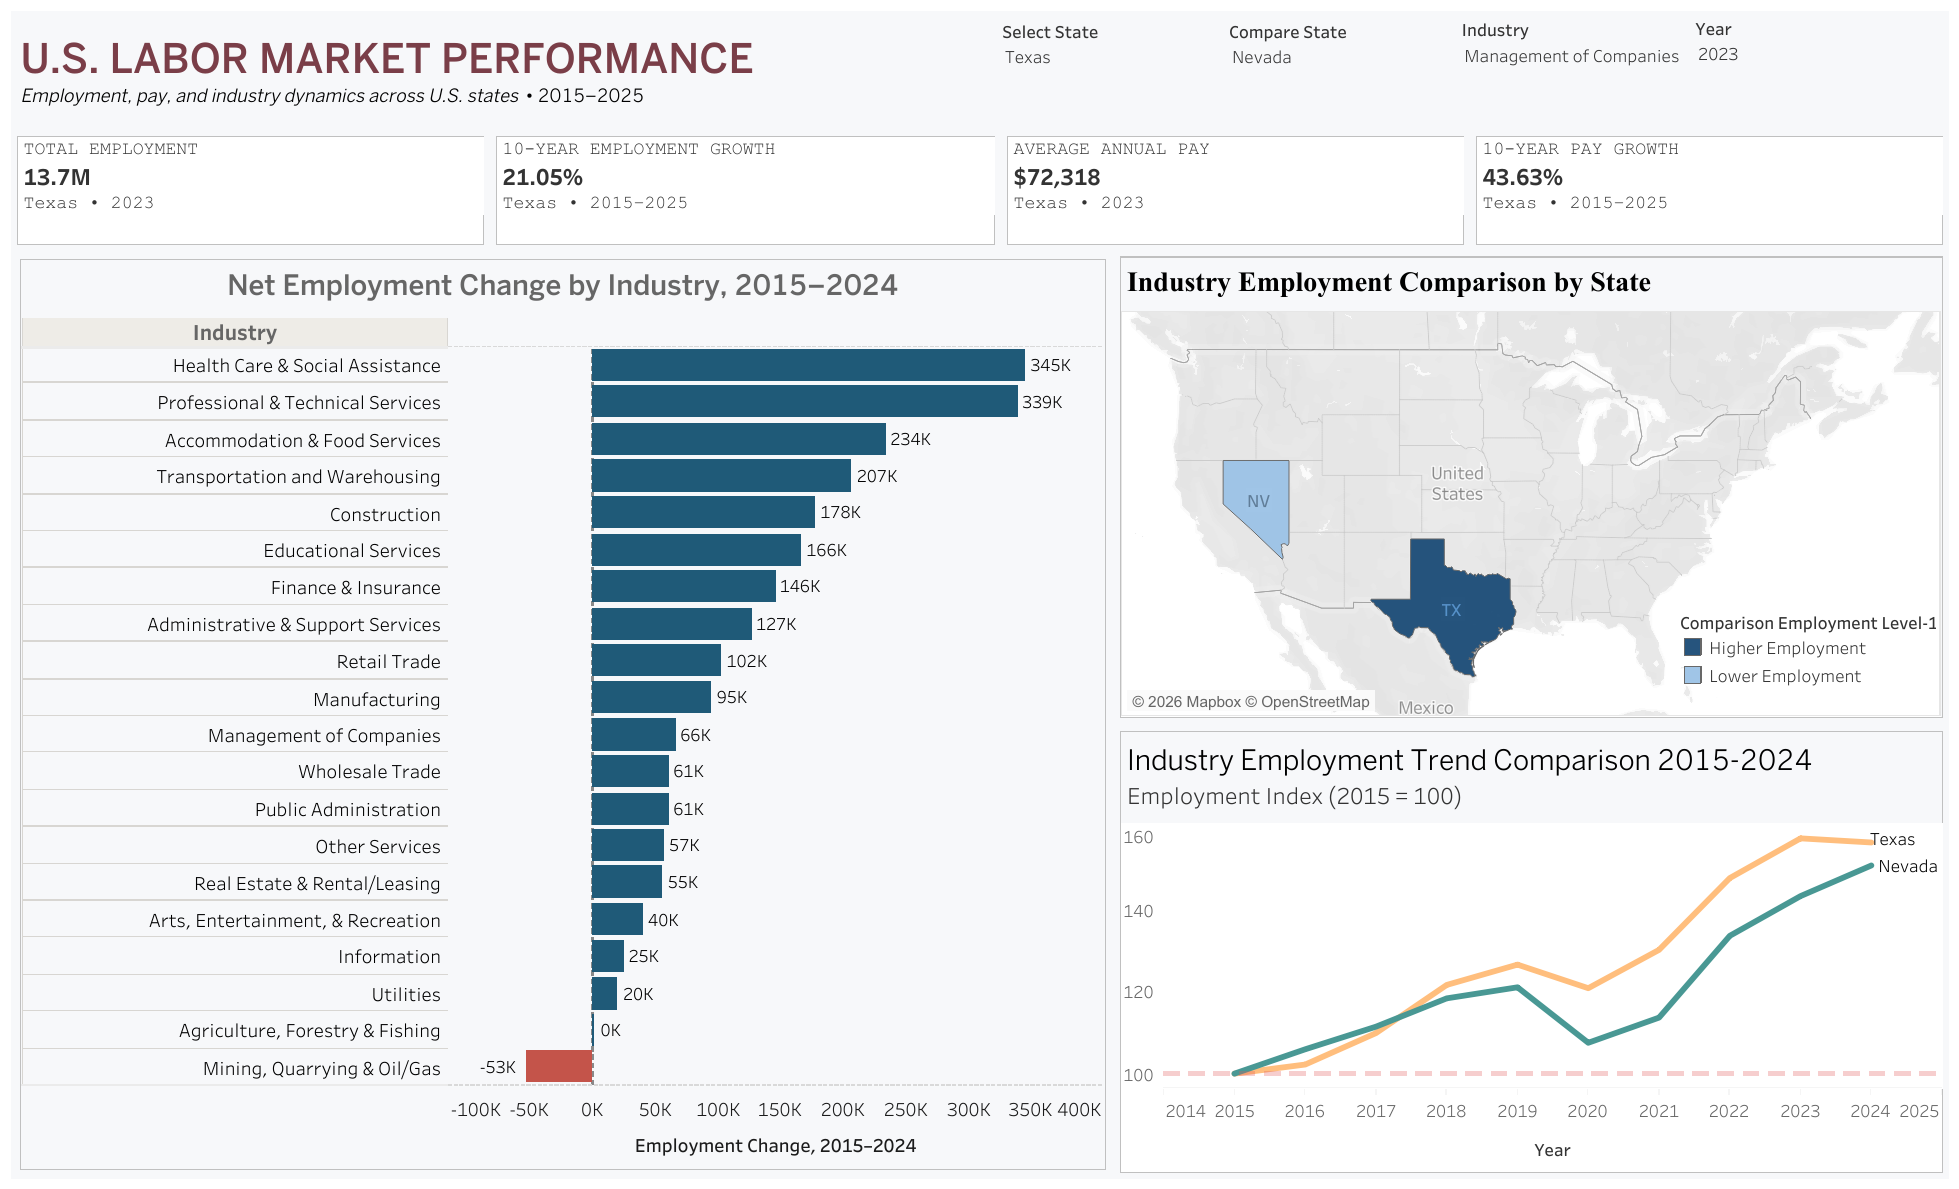

This screenshot's page, from the dashboard's own definition file:
{"tool":"tableau","page":{"name":"Labor Market Performance Dashboard","canvas":[1400,850],"ordinal":0},"visuals":[{"type":"text","box":[8,8,1384,85.4]},{"type":"filter","title":"Industry Employment Comparison by State","param":"[federated.0ztytav1tq7f1b15wf8391z11mg6].[none:year:ok]","box":[1204,8,168,61]},{"type":"filter","title":"Industry Employment Comparison by State","param":"[federated.0ztytav1tq7f1b15wf8391z11mg6].[none:industry:nk]","box":[1028,11,168,61]},{"type":"parameter","param":"[Parameters].[Parameter 0435185216966718]","box":[863,15,160,48]},{"type":"parameter","param":"[Parameters].[Parameter 0435185193529397]","box":[700,16,153,49]},{"type":"worksheet","title":"KPI - Total Employment","mark":"Automatic","box":[8,93,342,86]},{"type":"worksheet","title":"KPI - 10Y Employment Growth","mark":"Automatic","box":[350,93.4,364.7,85.6]},{"type":"worksheet","title":"KPI - Average Annual Pay","mark":"Automatic","box":[714.7,93.4,335.3,85.6]},{"type":"worksheet","title":"KPI - 10Y Pay Growth","mark":"Automatic","box":[1050,93.4,342,85.6]},{"type":"worksheet","title":"Industry Growth Drivers (2)","mark":"Automatic","rows":["industry"],"cols":["Calculation_0435184676093967"],"box":[8,179,788,663]},{"type":"worksheet","title":"Industry Employment Comparison by State","mark":"Multipolygon","box":[796,179,596,320]},{"type":"legend","title":"Industry Employment Comparison by State","param":"[federated.0ztytav1tq7f1b15wf8391z11mg6].[none:Calculation_0435185222946884:nk]","box":[1199,433,184,61]},{"type":"worksheet","title":"Industry Employment Trends (2)","mark":"Automatic","rows":["Calculation_0435185031884819"],"cols":["year (qcew_state_industry_2015_2025.csv)"],"box":[796,499,596,343]}]}

Visuals, with their boxes in screenshot pixels (x1, y1, x2, y2), scaled from the page's 1400x850 canvas onto the 1959x1189 screenshot:
text: 11, 11, 1948, 131
"Industry Employment Comparison by State" filter: 1685, 11, 1920, 97
"Industry Employment Comparison by State" filter: 1438, 15, 1674, 101
parameter: 1208, 21, 1431, 88
parameter: 980, 22, 1194, 91
"KPI - Total Employment" worksheet: 11, 130, 490, 250
"KPI - 10Y Employment Growth" worksheet: 490, 131, 1000, 250
"KPI - Average Annual Pay" worksheet: 1000, 131, 1469, 250
"KPI - 10Y Pay Growth" worksheet: 1469, 131, 1948, 250
"Industry Growth Drivers (2)" worksheet: 11, 250, 1114, 1178
"Industry Employment Comparison by State" worksheet (Multipolygon marks): 1114, 250, 1948, 698
"Industry Employment Comparison by State" legend: 1678, 606, 1935, 691
"Industry Employment Trends (2)" worksheet: 1114, 698, 1948, 1178
